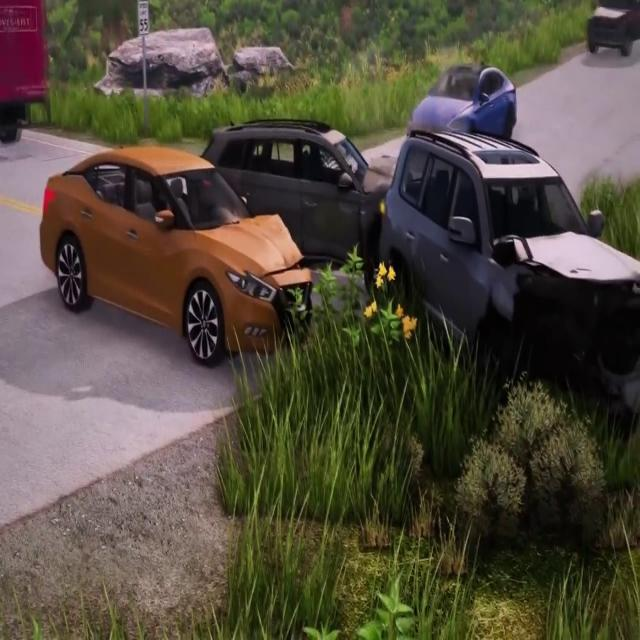accident: (37, 111, 640, 364)
